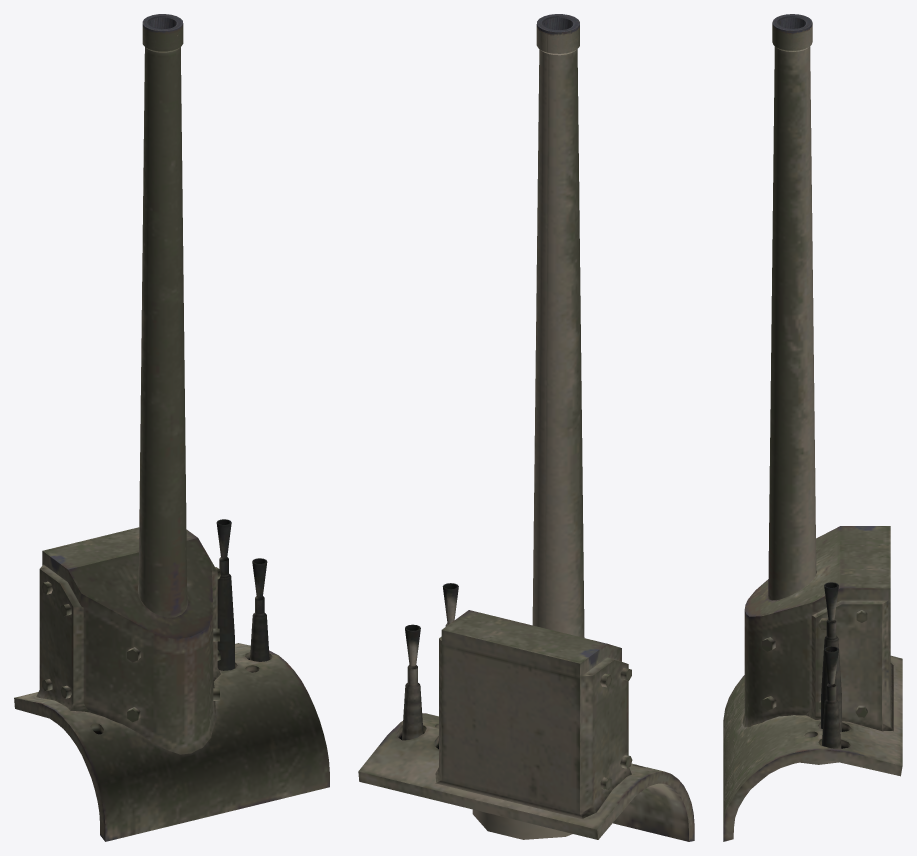
The model's file is Gun_04.glb.
3 views of the same model, side by side, from view 1: azimuth 30°, elevation 25°; view 2: azimuth 150°, elevation 25°; view 3: azimuth 270°, elevation 25° (orthographic). The views are drawn at different scales.
Visible parts, largest first — view 1: set_0_group_0; view 2: set_0_group_0; view 3: set_0_group_0.
Part boxes in pixels (box(x1,y1,x2,y2)): set_0_group_0: box(14, 14, 329, 841); set_0_group_0: box(358, 14, 694, 841); set_0_group_0: box(723, 14, 902, 841).
Bounding box in the file's own units: 0.7088 × 2.33 × 0.4996.
1 material, 1 textured.
